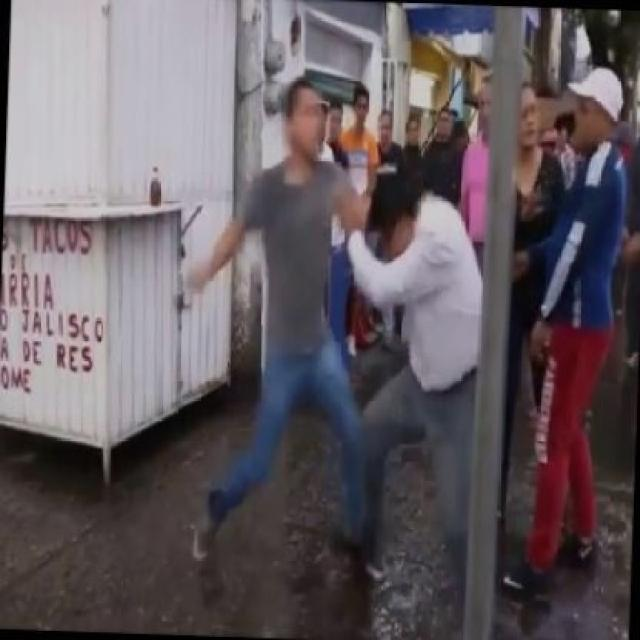fight: (191, 68, 509, 632)
non-fight: (505, 68, 637, 626)
